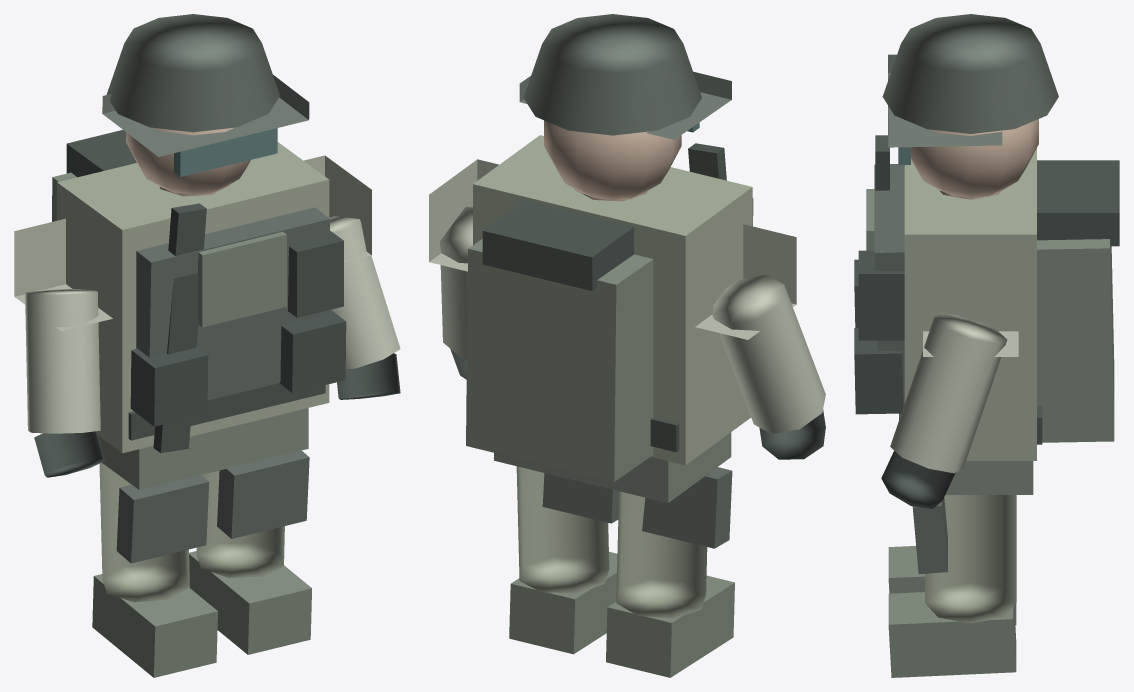
Rendered from character-player.glb.
3 views of the same model, side by side, from view 1: azimuth 30°, elevation 25°; view 2: azimuth 150°, elevation 25°; view 3: azimuth 270°, elevation 25° (orthographic). The views are drawn at different scales.
Parts seen in each view (by area): view 1: character-merged-uniform, character-merged-uniformDark, character-merged-strap, character-merged-armor, character-merged-uniformLight, character-merged-helmet, character-merged-skin, character-merged-lens; view 2: character-merged-uniformDark, character-merged-uniform, character-merged-uniformLight, character-merged-helmet, character-merged-strap, character-merged-armor, character-merged-skin; view 3: character-merged-uniform, character-merged-uniformDark, character-merged-helmet, character-merged-strap, character-merged-uniformLight, character-merged-skin, character-merged-armor.
Part boxes in pixels (x1,y1,x2,y2): character-merged-uniform: [57, 142, 329, 602]; character-merged-uniformDark: [52, 172, 311, 677]; character-merged-strap: [34, 130, 400, 477]; character-merged-armor: [116, 207, 329, 563]; character-merged-uniformLight: [14, 155, 400, 433]; character-merged-helmet: [102, 14, 309, 156]; character-merged-skin: [126, 127, 250, 196]; character-merged-lens: [174, 128, 277, 176]; character-merged-uniformDark: [466, 239, 734, 677]; character-merged-uniform: [473, 135, 752, 618]; character-merged-uniformLight: [429, 159, 825, 433]; character-merged-helmet: [519, 14, 731, 139]; character-merged-strap: [450, 143, 825, 459]; character-merged-armor: [542, 198, 753, 548]; character-merged-skin: [544, 120, 681, 201]; character-merged-uniform: [904, 148, 1036, 623]; character-merged-uniformDark: [866, 189, 1114, 677]; character-merged-helmet: [882, 14, 1058, 147]; character-merged-strap: [854, 135, 1119, 508]; character-merged-uniformLight: [890, 313, 1018, 473]; character-merged-skin: [911, 119, 1038, 199]; character-merged-armor: [874, 164, 947, 574].
Bounding box in the file's own units: 1.17 × 1.79 × 0.7218.
